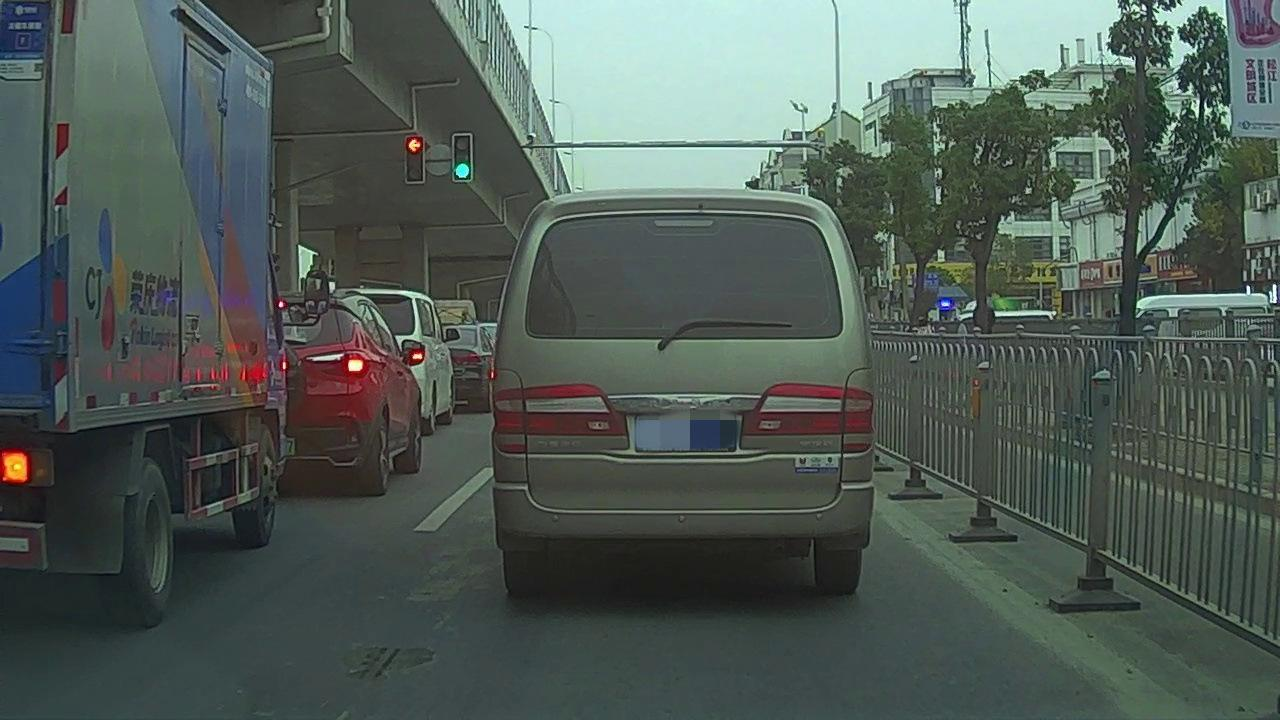traffic_light: (453, 134, 471, 181), (408, 135, 424, 181)
